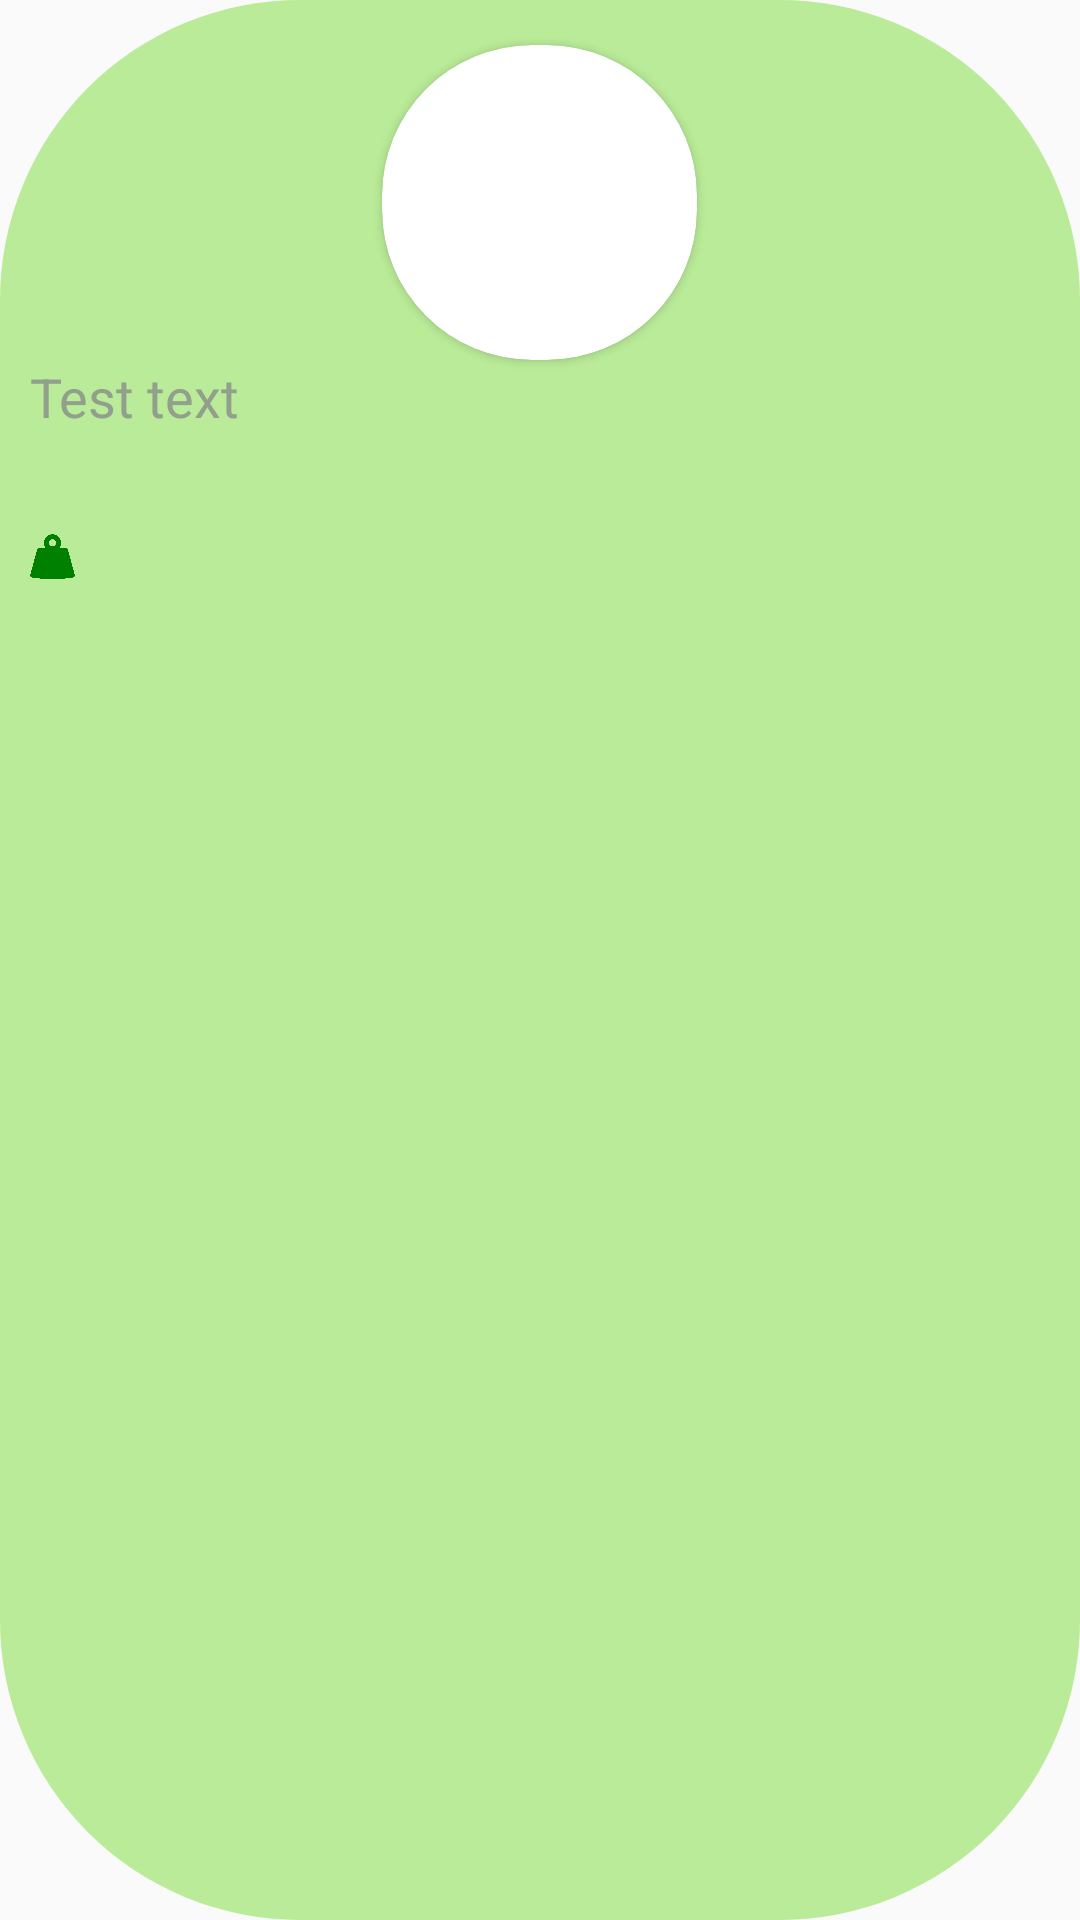

Named icons in this screenshot (1080px x 1920px) and their centers, [x,y]:
weight: [52,556]
